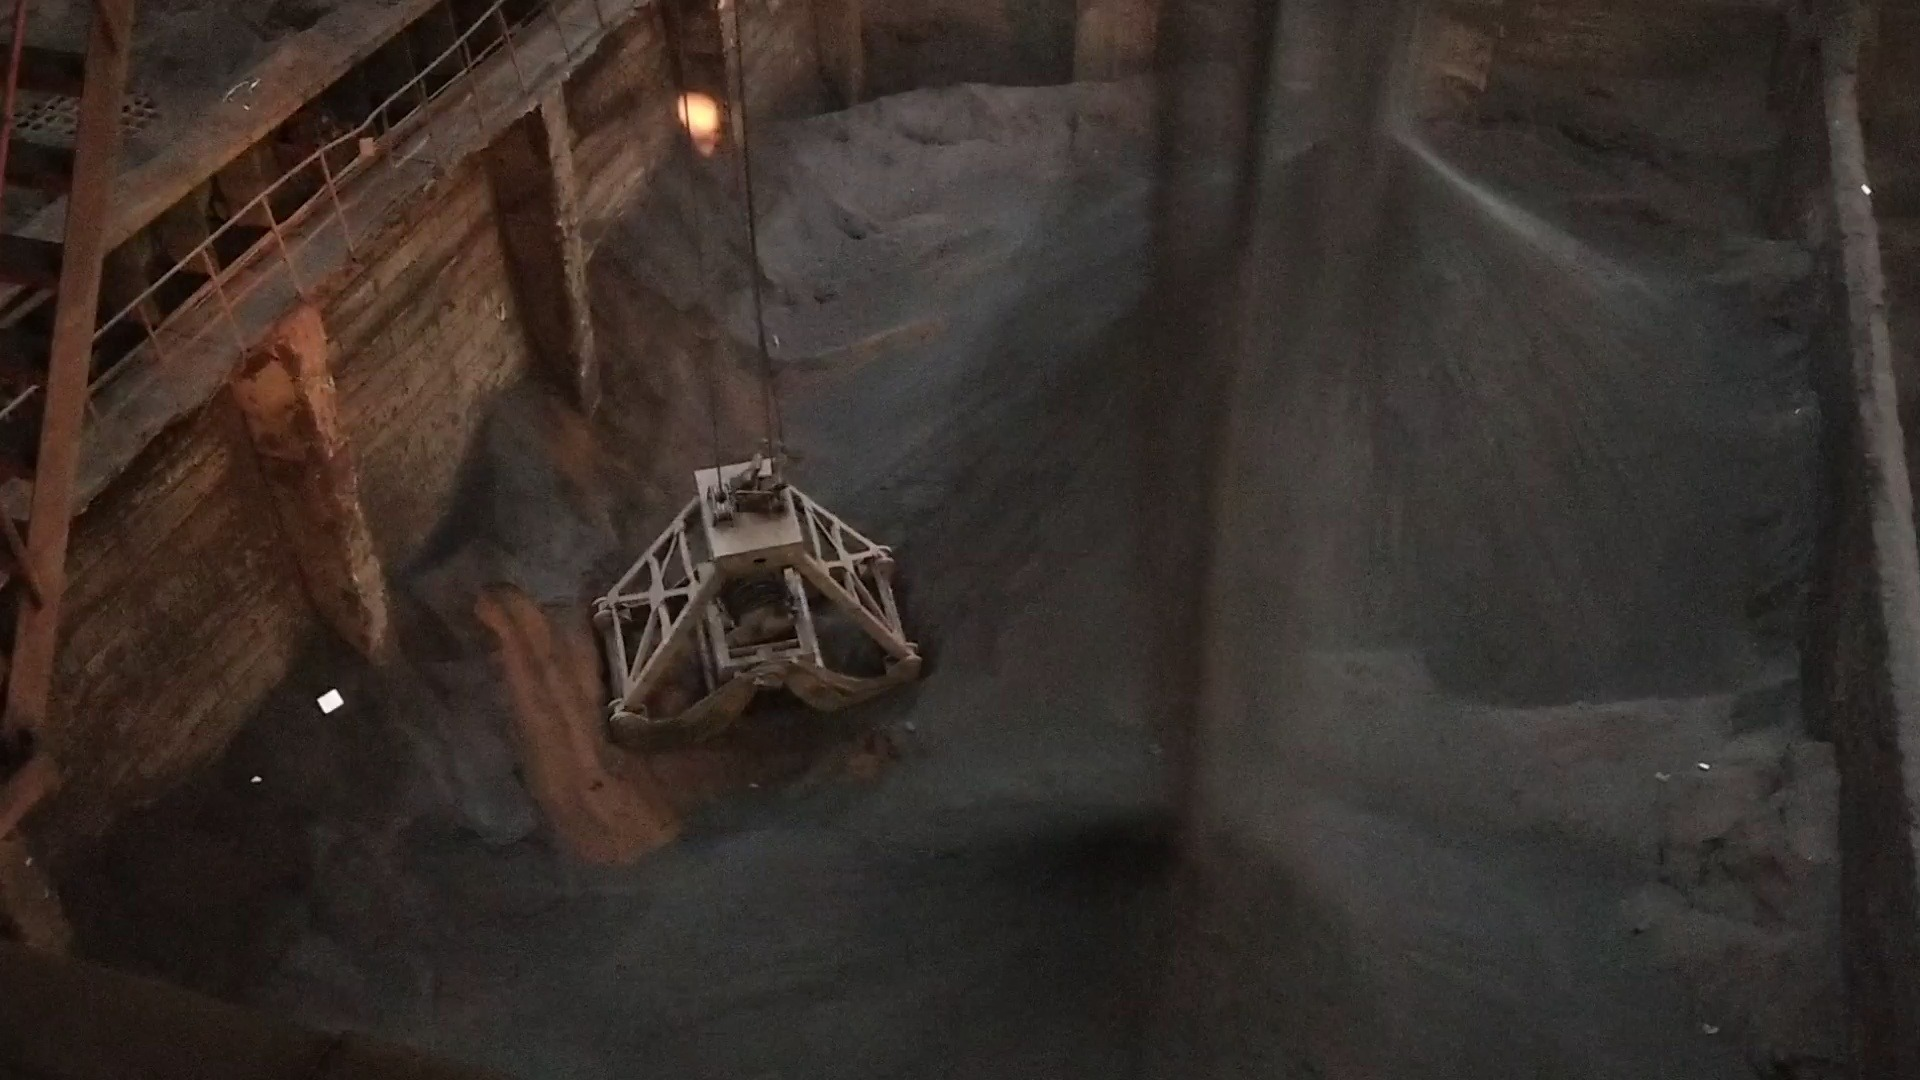grab: (584, 439, 930, 757)
